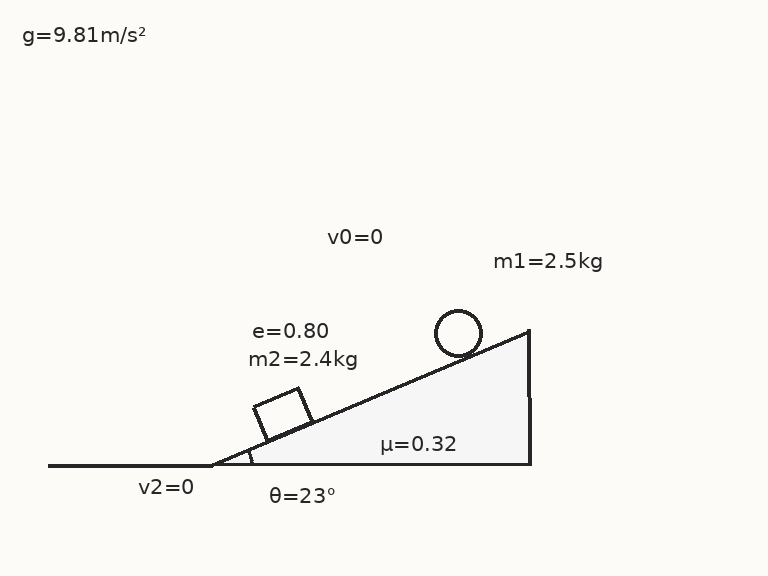ball: (432, 307, 484, 359)
block: (251, 386, 314, 442)
ramp: (209, 327, 531, 466)
